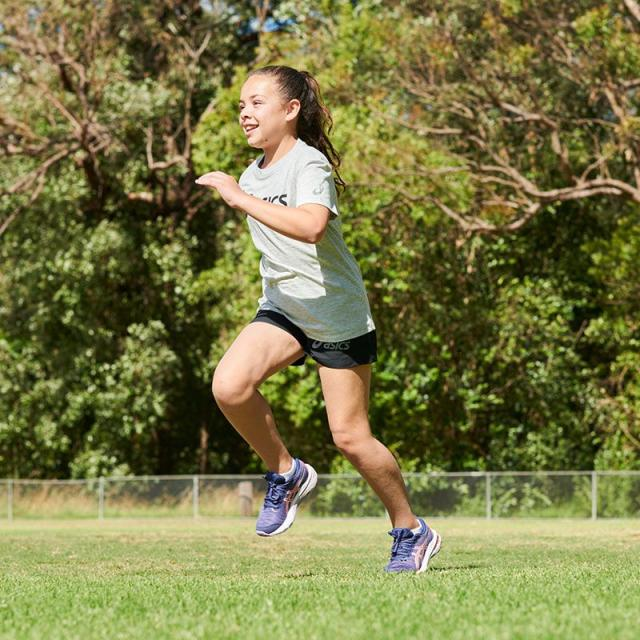Person: (194, 65, 443, 574)
